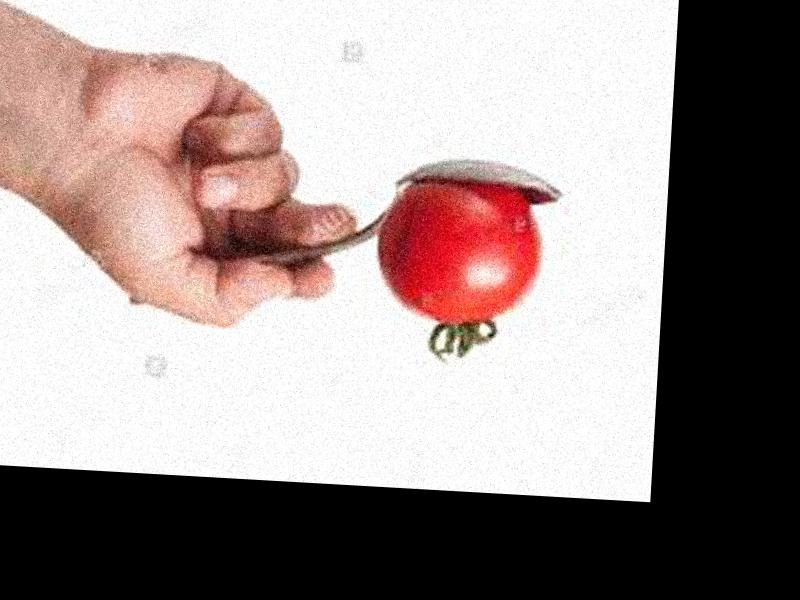Tomato: (372, 179, 542, 329)
